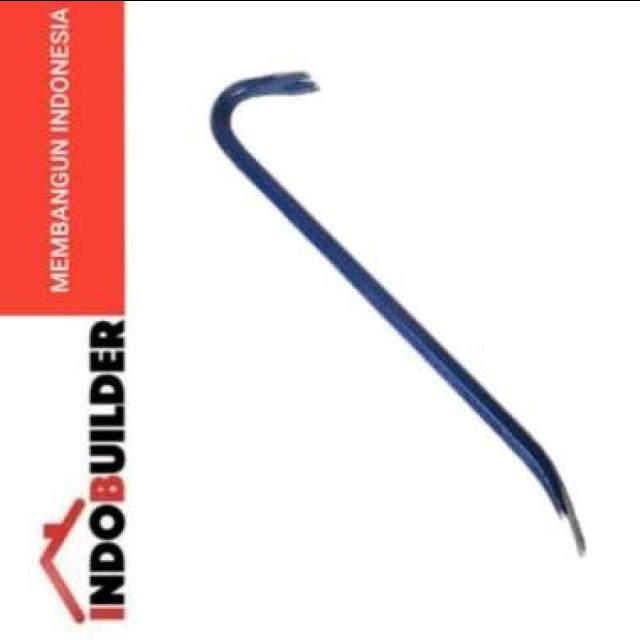Linggis: (209, 73, 589, 553)
